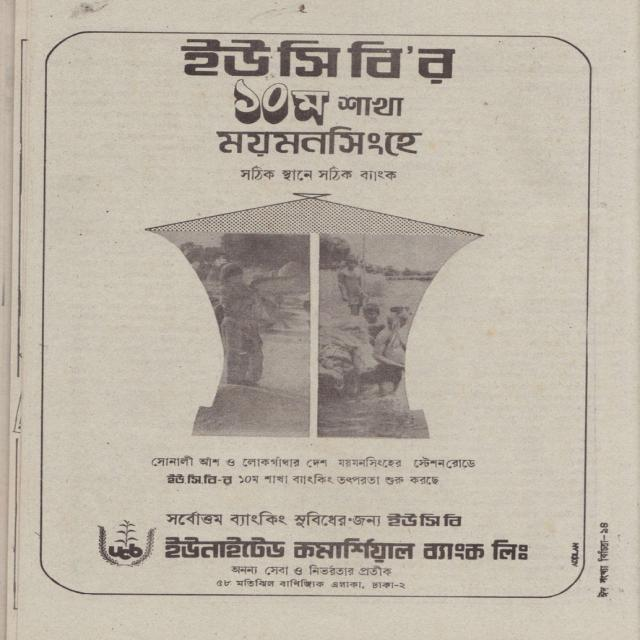advertisement: (39, 33, 591, 598)
page number: (595, 521, 612, 534)
text: (594, 539, 612, 599)
